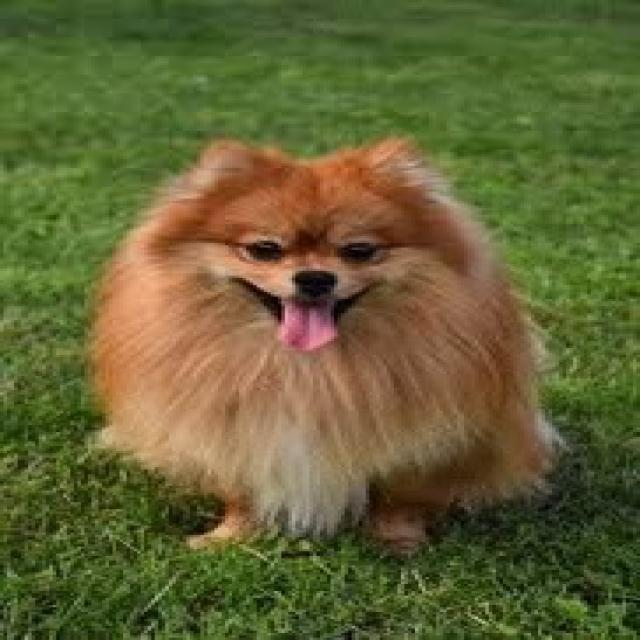adult_dog: (90, 135, 563, 556)
